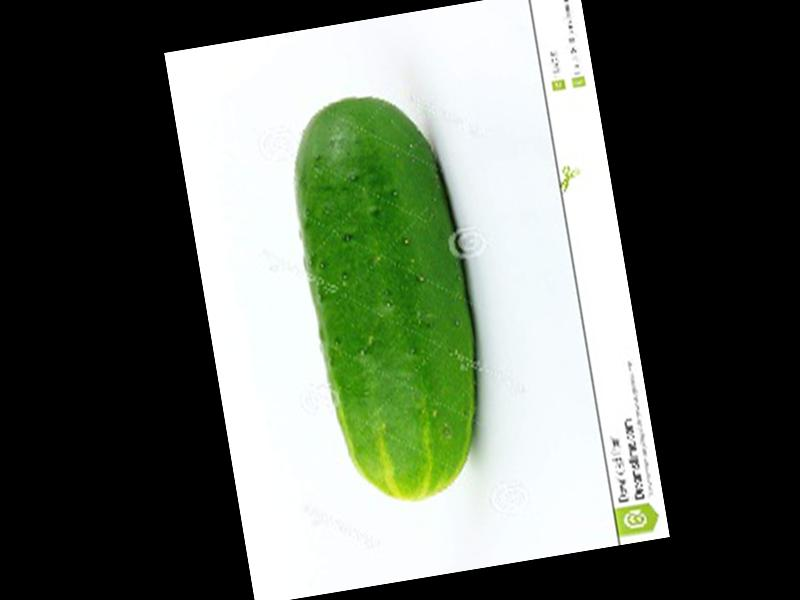Cucumber: (282, 83, 500, 509)
